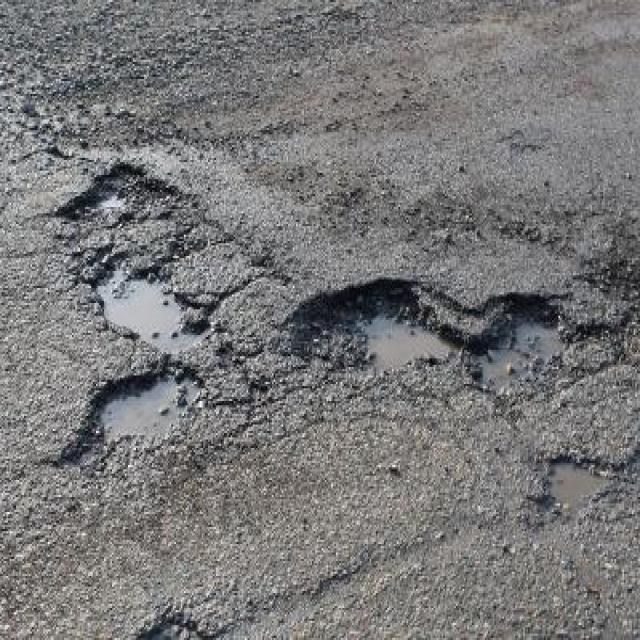pothole: (286, 271, 466, 386), (62, 361, 212, 472), (88, 252, 226, 348), (466, 286, 576, 404), (52, 158, 180, 232), (530, 446, 614, 523), (132, 608, 215, 638)
